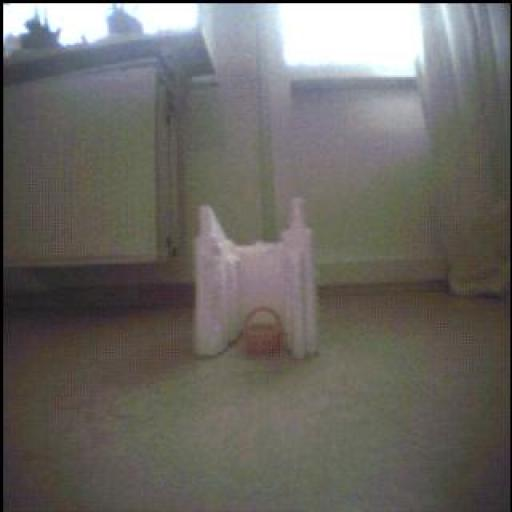Basket: (243, 308, 284, 356)
